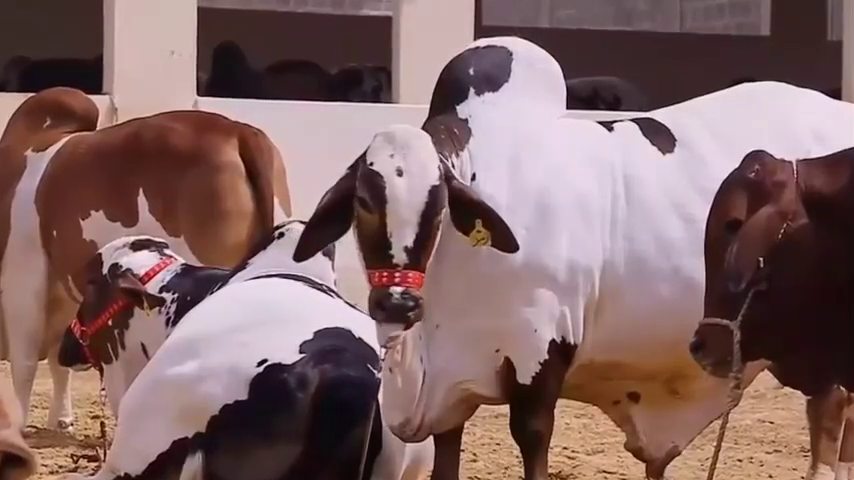bo: (268, 23, 853, 480), (43, 205, 446, 480), (2, 79, 299, 443), (679, 142, 854, 480)
